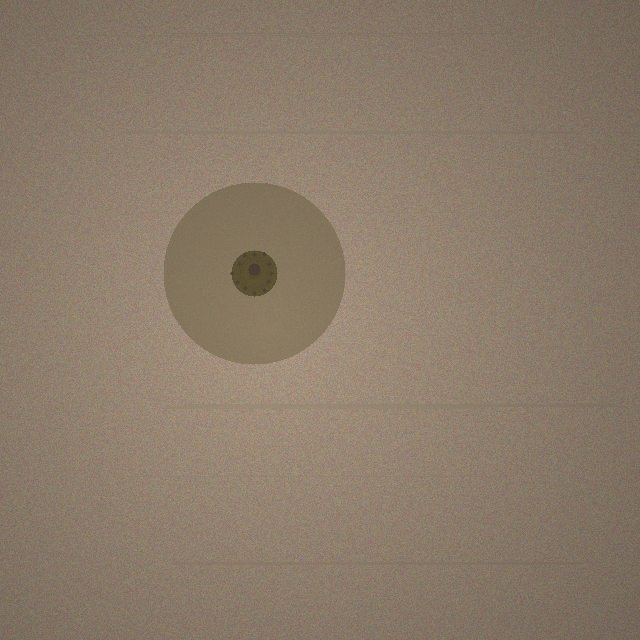cold_weld: (163, 182, 345, 364)
